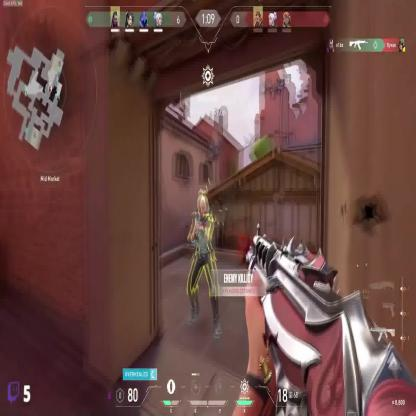enemy: (184, 188, 221, 340)
enemy_head: (196, 191, 208, 218)
